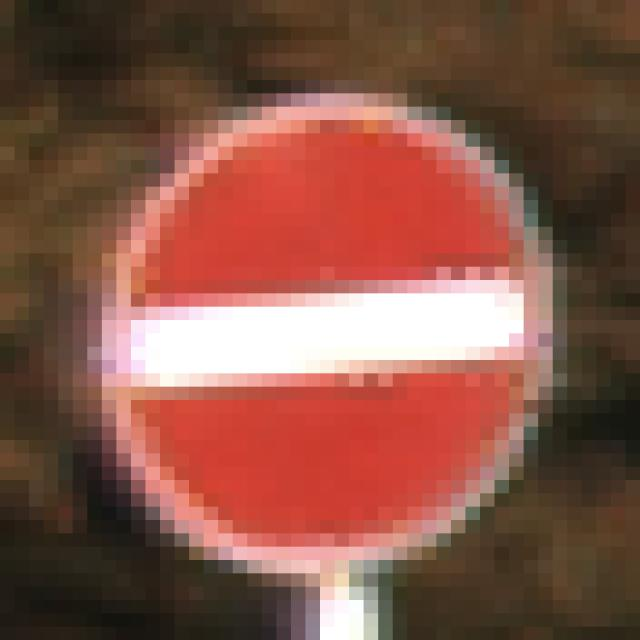No Entry: (89, 81, 569, 574)
